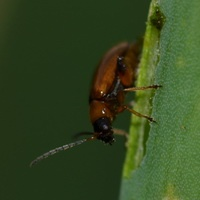insect: (30, 39, 158, 166)
